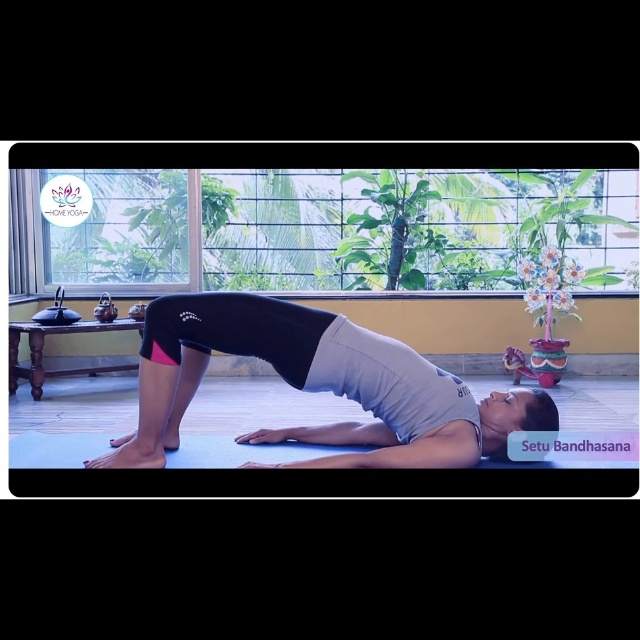Bridge_Pose: (71, 289, 563, 472)
